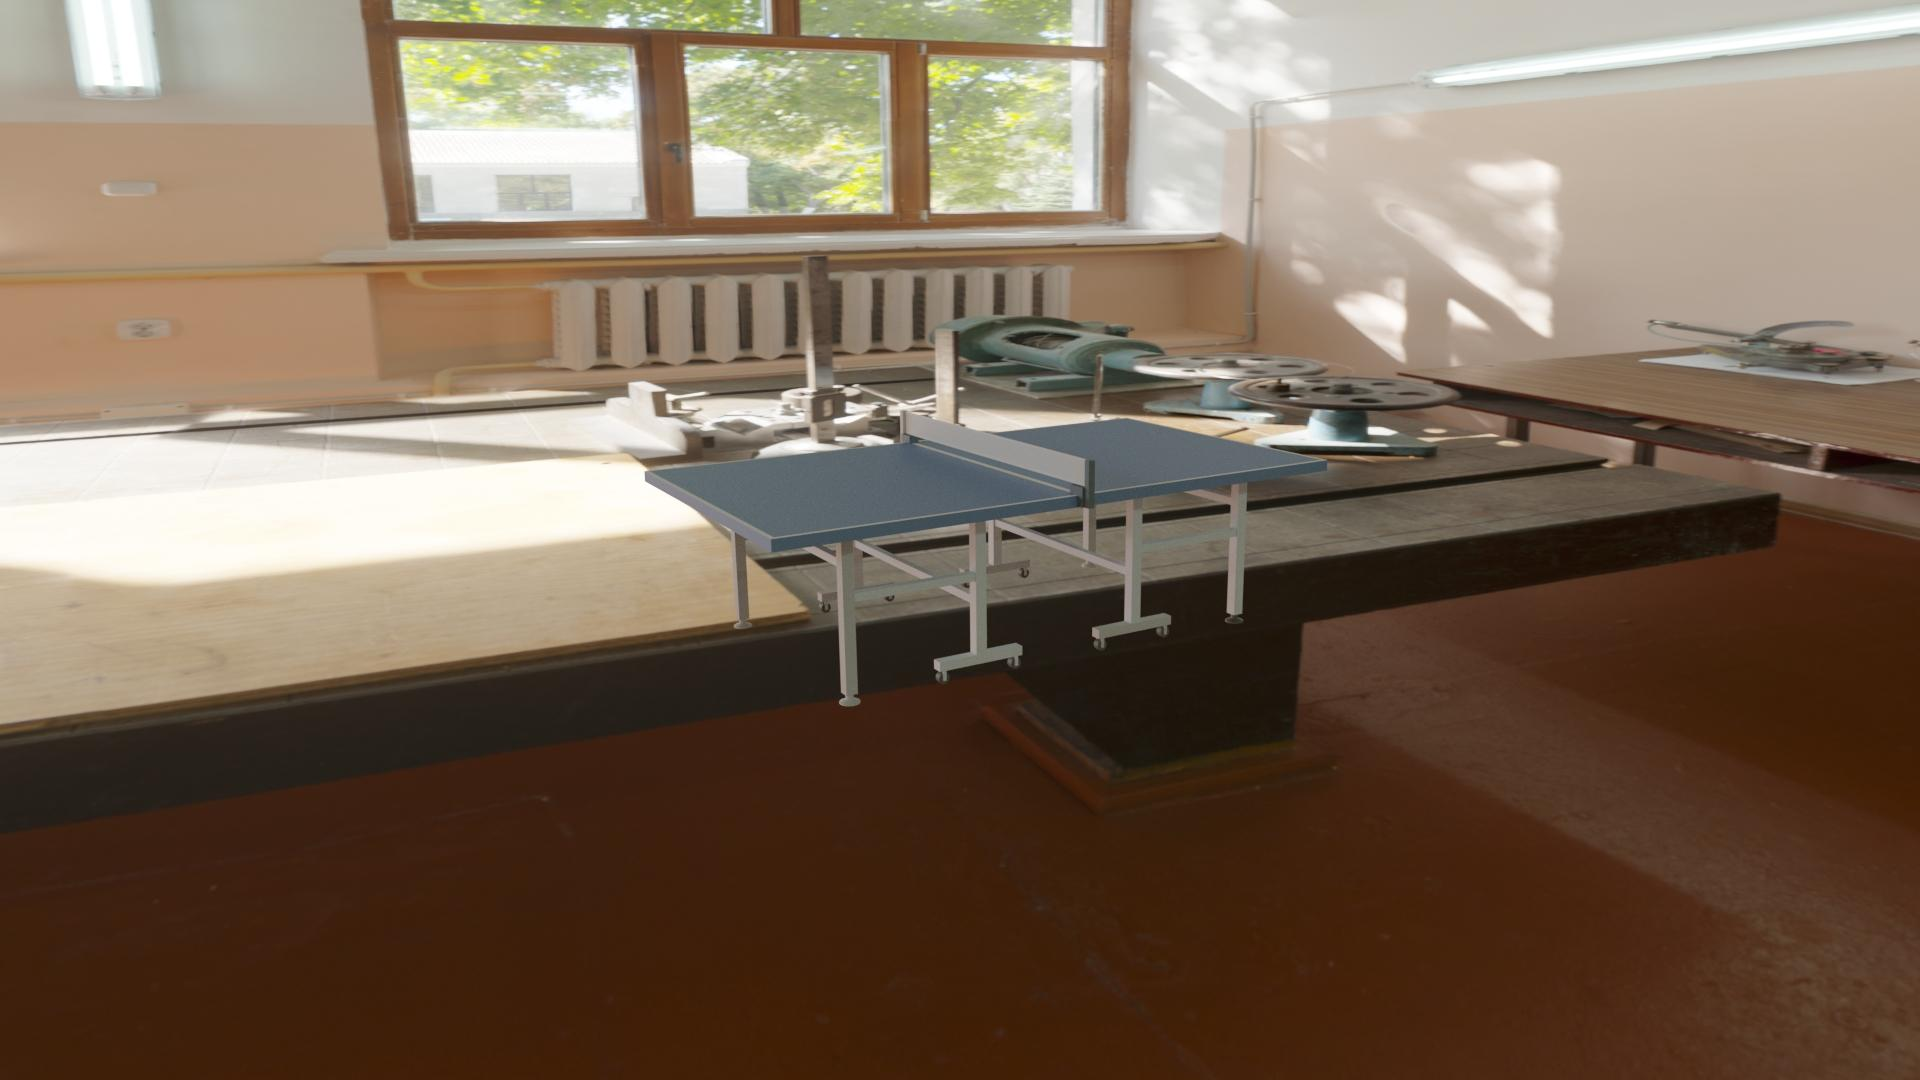table: (649, 418, 1321, 538)
